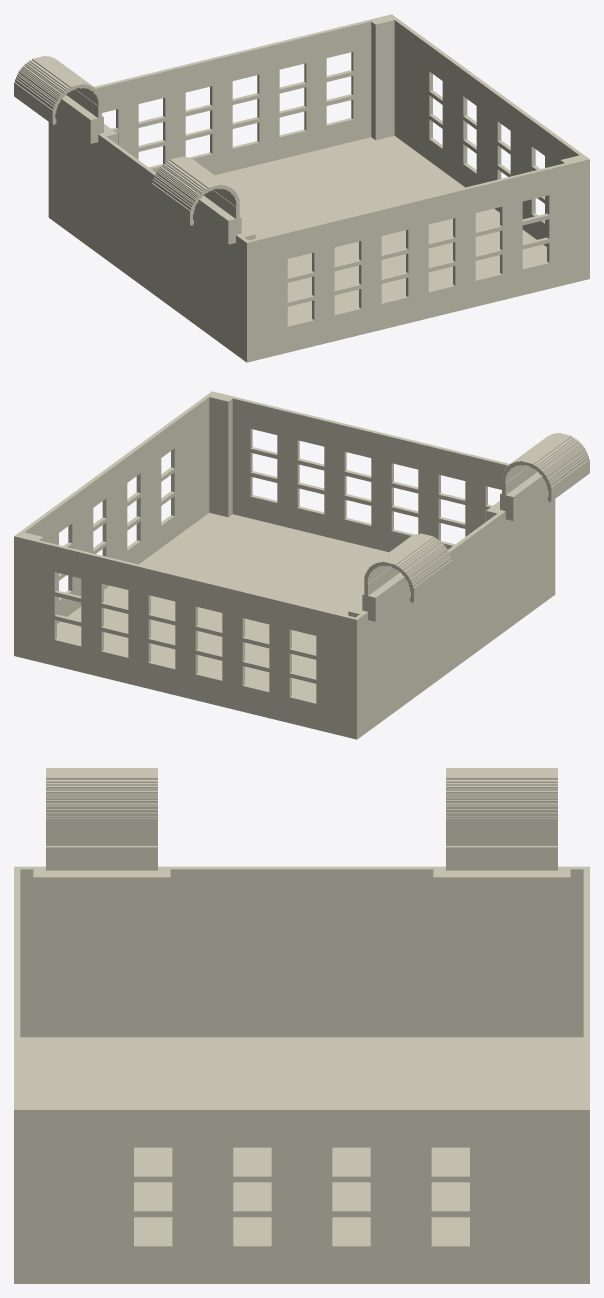
The model's file is scout_front_basket_180x180x60mm_colored.dae.
The picture shows the model from 3 angles, top to bottom: view 1: azimuth 30°, elevation 25°; view 2: azimuth 150°, elevation 25°; view 3: azimuth 270°, elevation 25°; orthographic projection. The views are drawn at different scales.
Parts seen in each view (by area): view 1: front_basket; view 2: front_basket; view 3: front_basket.
Part boxes in pixels (<box>): front_basket: <box>14,14,589,362</box>; front_basket: <box>14,391,589,739</box>; front_basket: <box>14,768,589,1283</box>.
Size of the model in its own units: 0.204 by 0.18 by 0.087.
